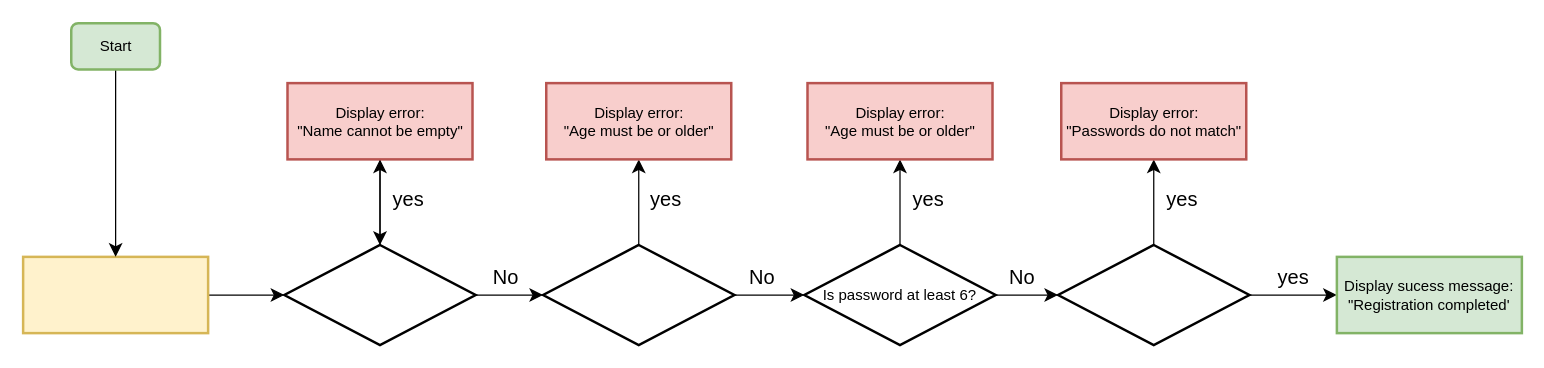
The diagram is 1544 pixels wide and 368 high, and some of its shapes have lost their labels. The shapes that lost their labels are listed below. From the top down, each one's centre as x and y in pixels, then its label:
pixel 115 294: Receive user data (Name, Age, Password, ConfirmationPassword)
pixel 379 294: Is the name empty?
pixel 638 294: Is age >= 18?
pixel 1153 294: Password match?
